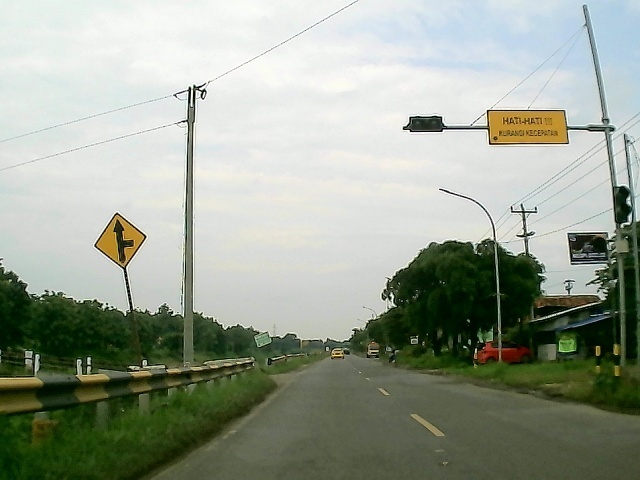Simpang kanan dengan prioritas: (92, 210, 151, 270)
